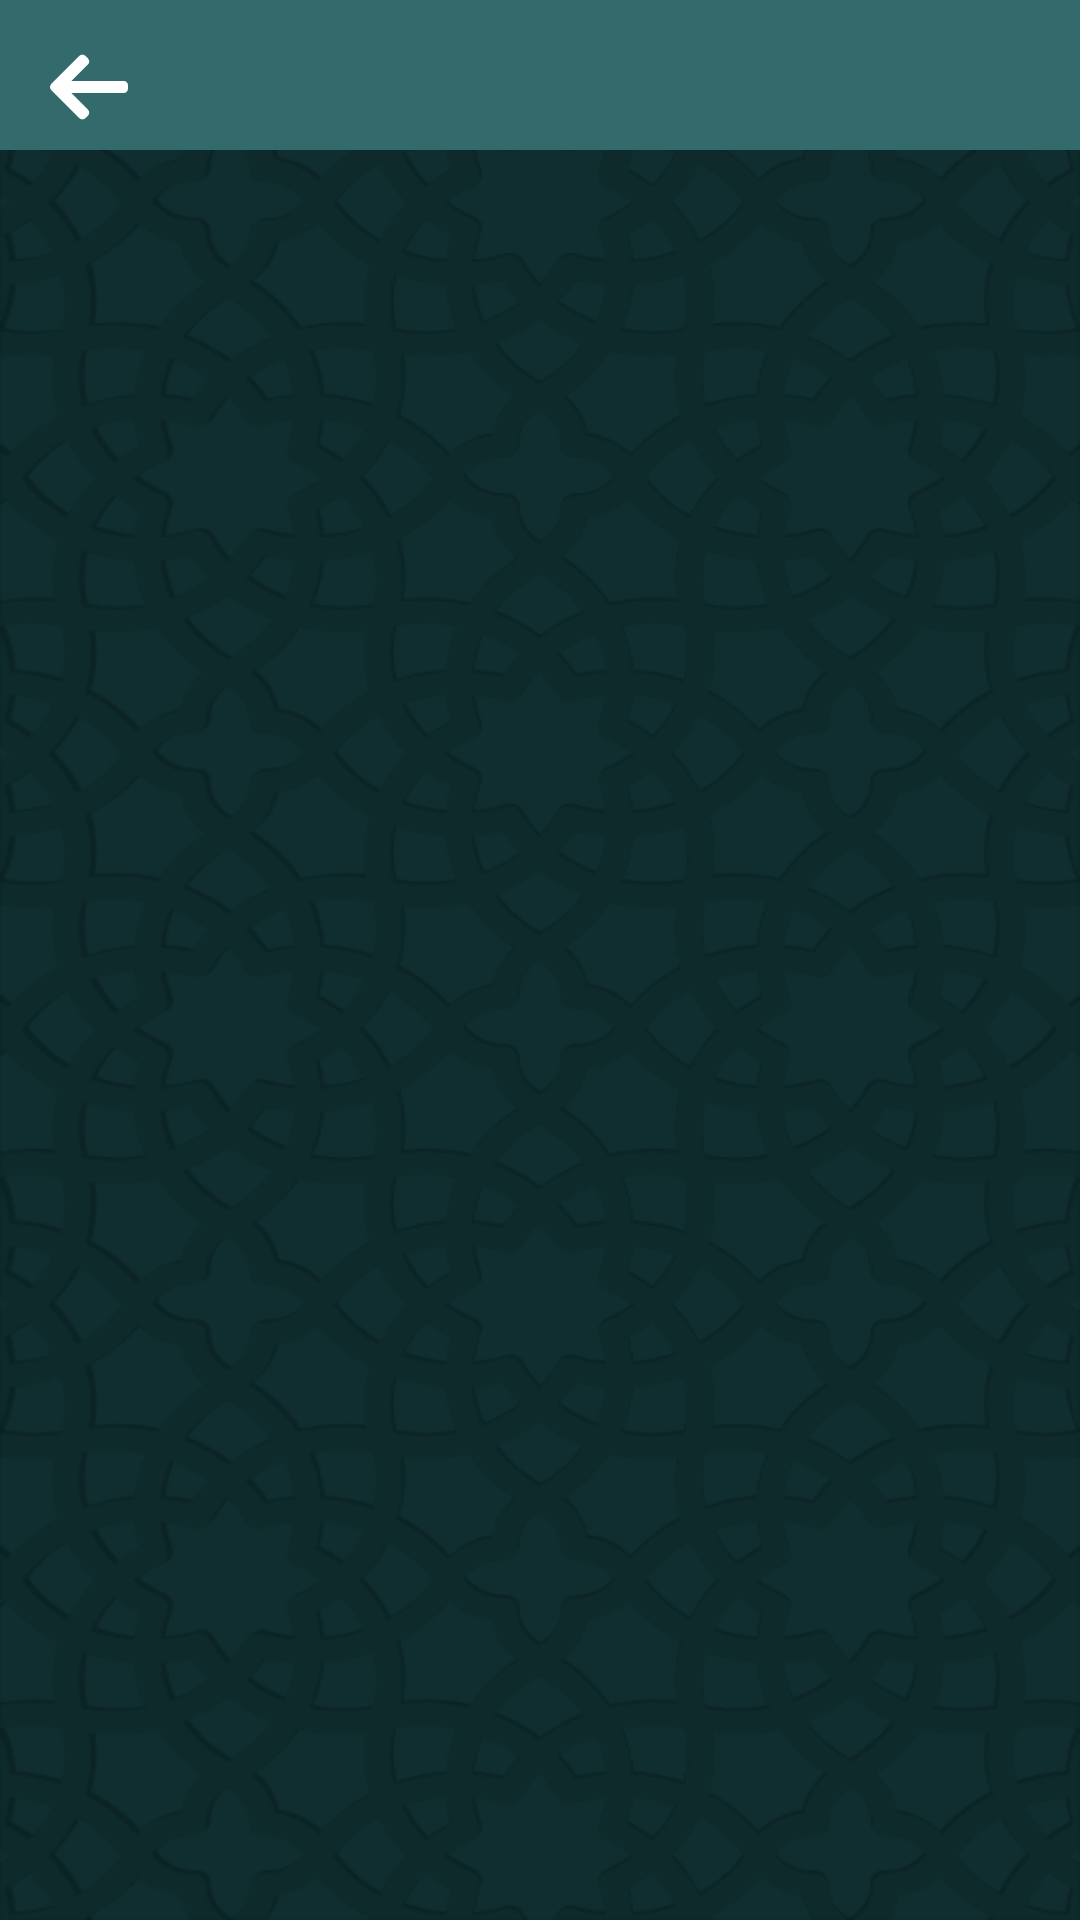

Where to tap for icons on this 1080x1920 app screen, as point (x, y):
back: point (89, 87)
